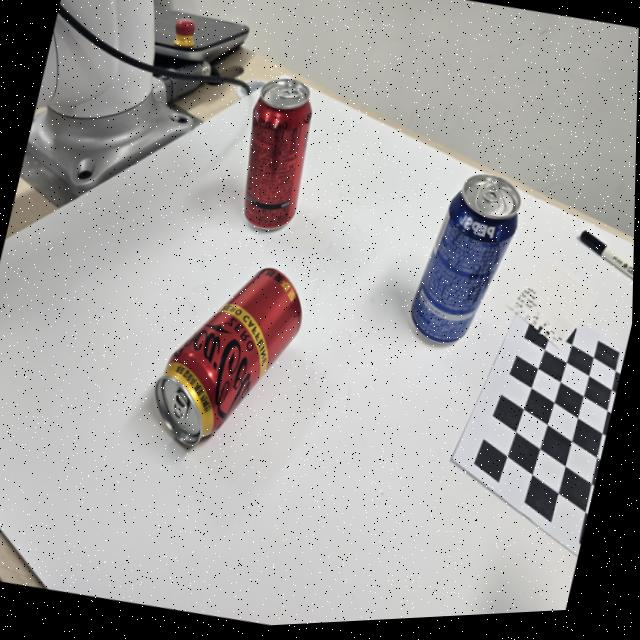can_coke_decaf: (155, 269, 302, 444)
can_coke_zero: (243, 75, 312, 229)
can_pepsi: (409, 171, 520, 345)
